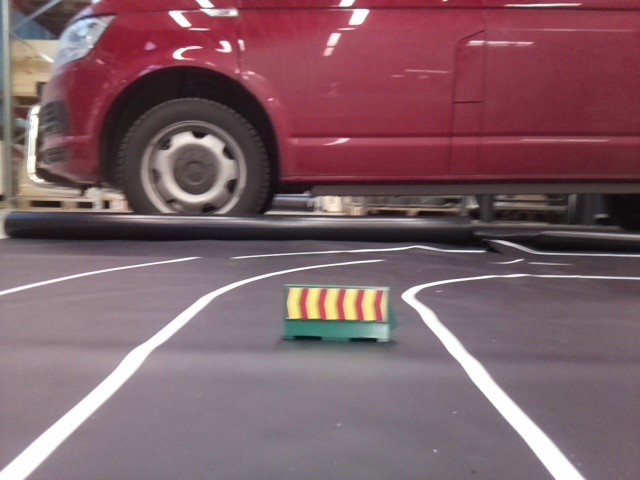ClosedRoadStand: (283, 284, 390, 340)
